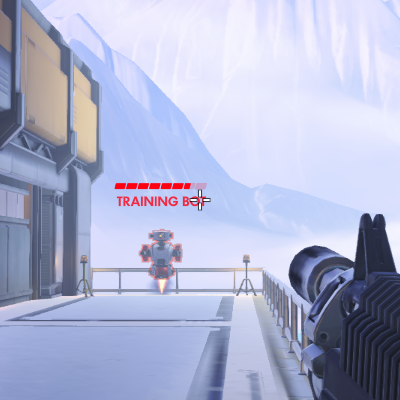hpbar: (114, 183, 207, 189)
